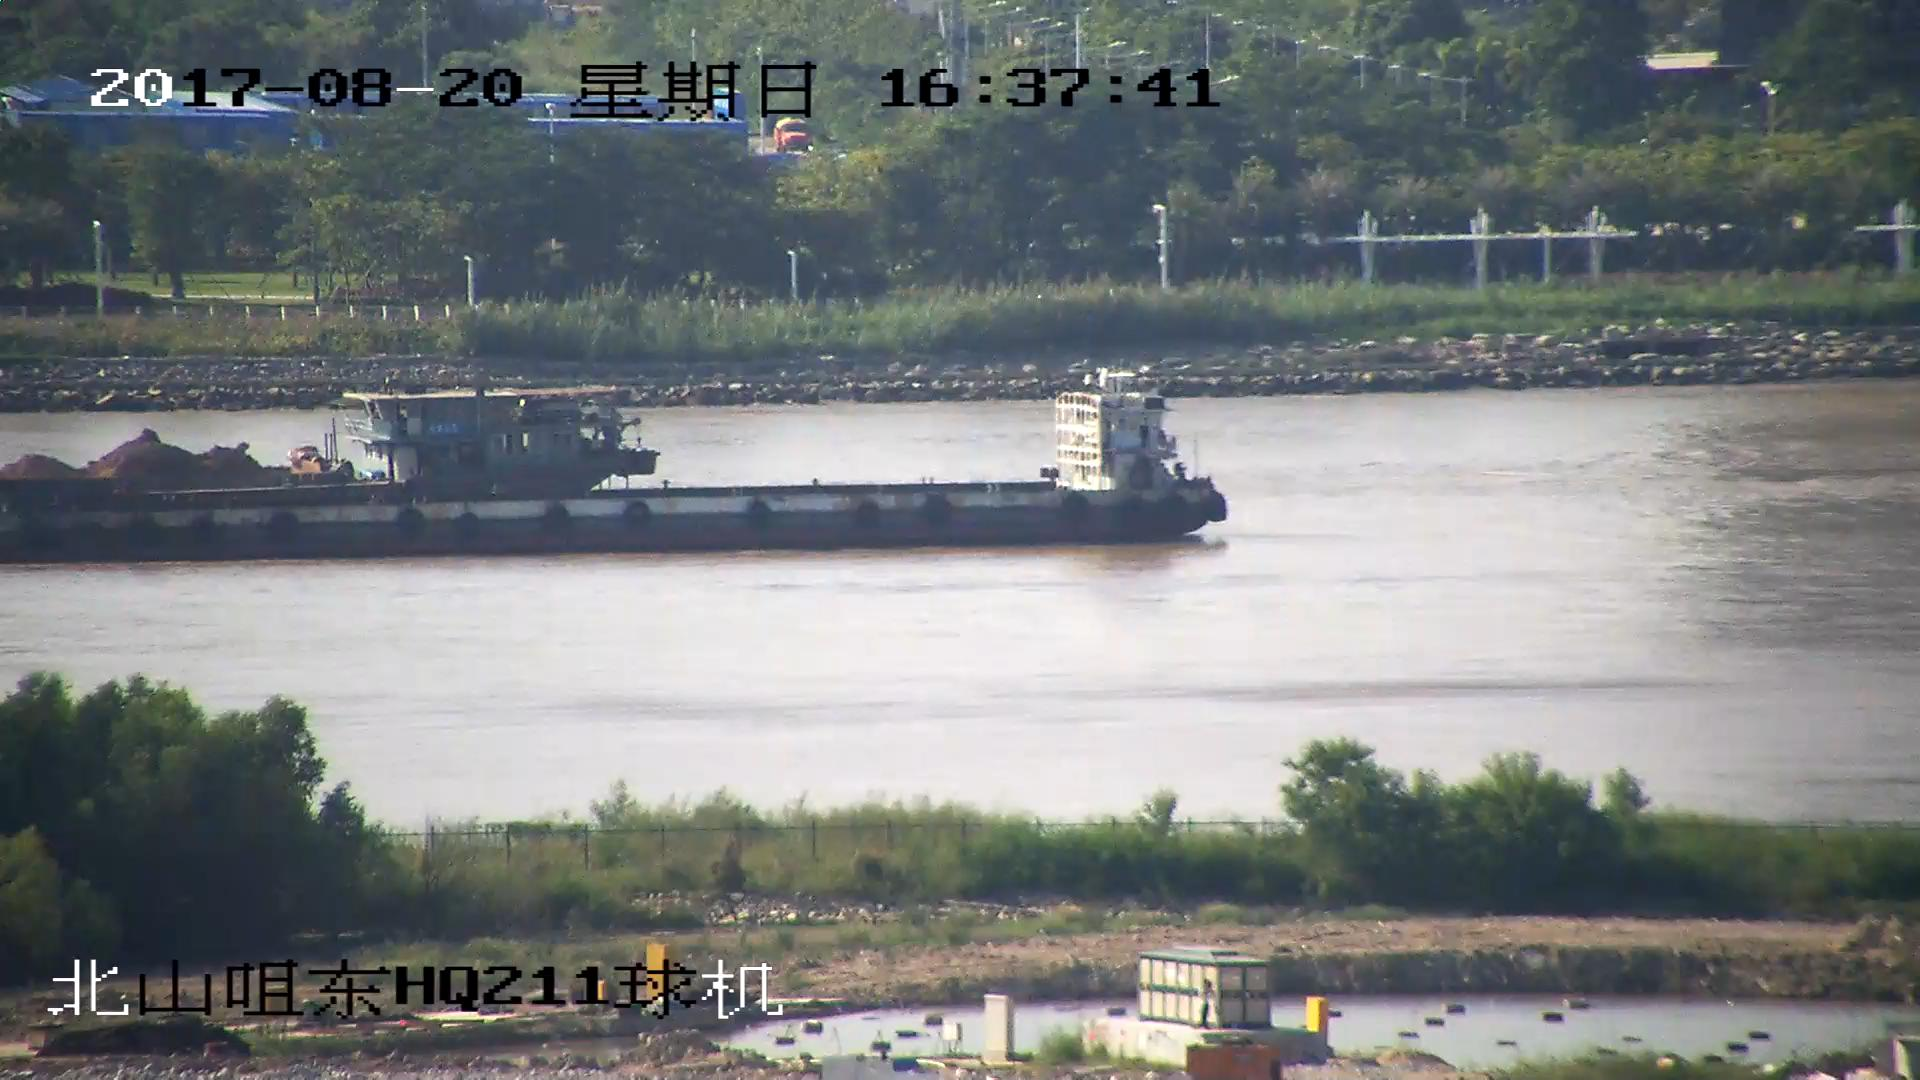general cargo ship: (1, 384, 1233, 563)
ore carrier: (1, 386, 653, 514)
